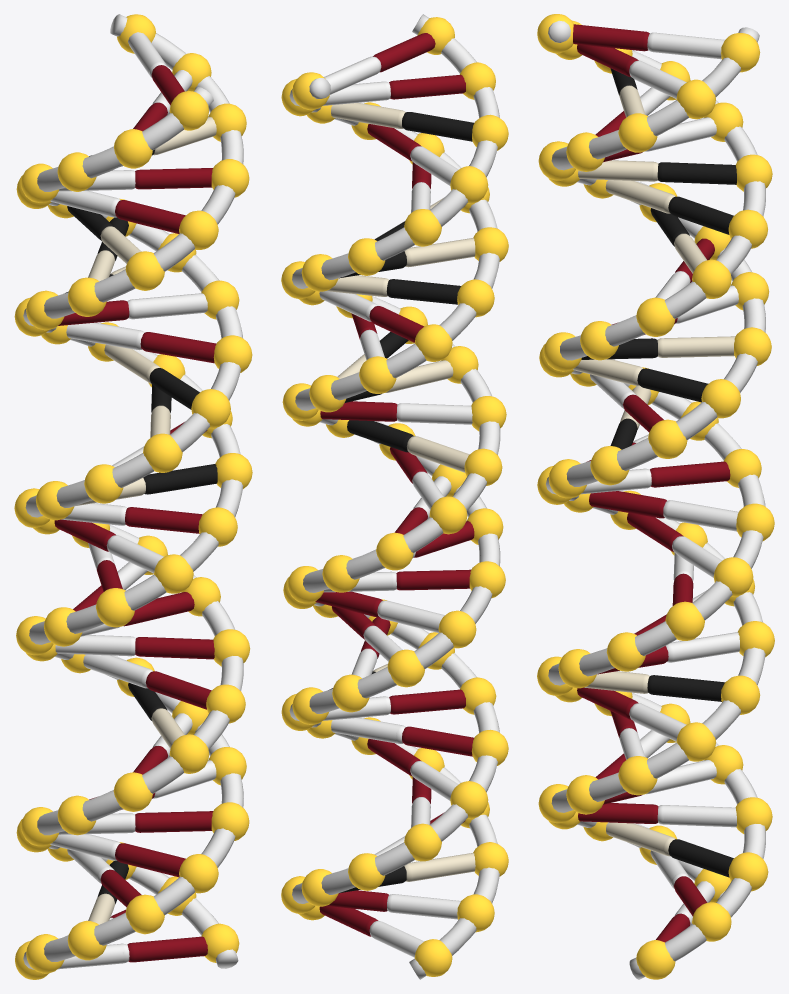
Rendered from dna-explorer.glb.
3 renders of one model, left to right at view 1: azimuth 30°, elevation 25°; view 2: azimuth 150°, elevation 25°; view 3: azimuth 270°, elevation 25°, orthographic. The views are drawn at different scales.
Visible parts, largest first — view 1: DNA_Web; view 2: DNA_Web; view 3: DNA_Web.
Boxes of the visible parts, <box> form: DNA_Web: <box>14,14,252,979</box>; DNA_Web: <box>281,14,508,979</box>; DNA_Web: <box>537,14,774,979</box>.
Bounding box in the file's own units: 2.39 × 10.29 × 2.4.
